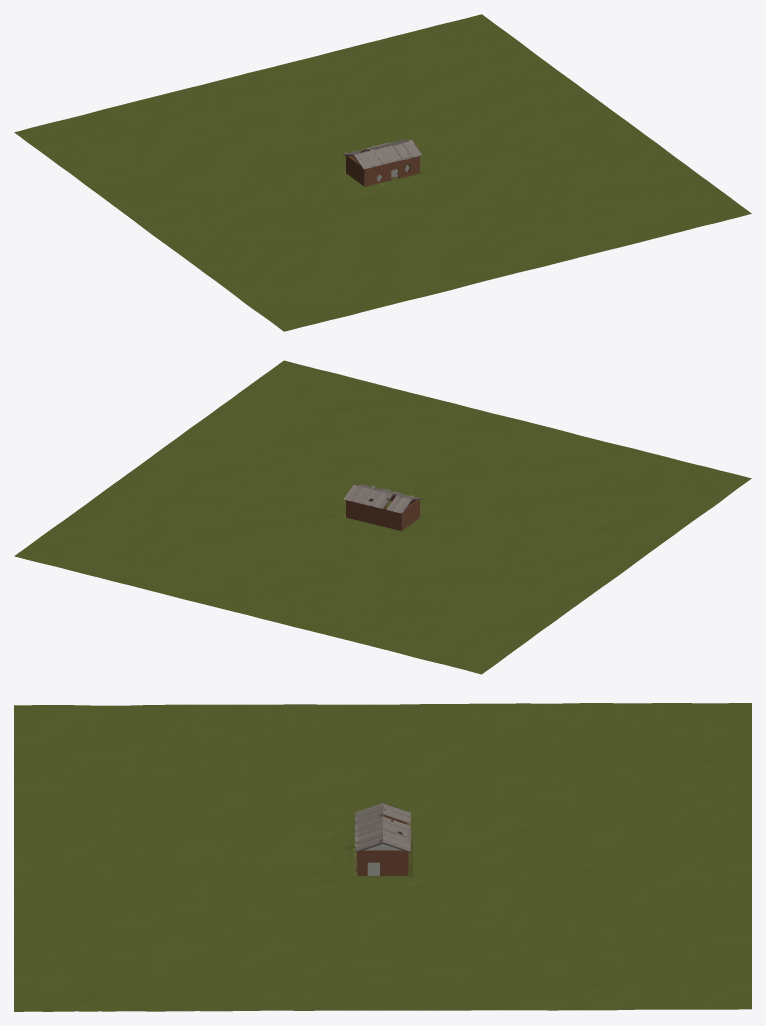
File: decal-plain.glb
3 renders of one model, top to bottom at view 1: azimuth 30°, elevation 25°; view 2: azimuth 150°, elevation 25°; view 3: azimuth 270°, elevation 25°, orthographic. The views are drawn at different scales.
Parts seen in each view (by area): view 1: far_ground_east, far_ground_west, far_ground_north, far_ground_south, yard, south_wall, roof_south; view 2: far_ground_east, far_ground_west, far_ground_north, far_ground_south, yard, north_wall, roof_north; view 3: far_ground_east, far_ground_west, far_ground_north, far_ground_south, yard, roof_north, roof_south, east_wall_002.
Boxes of the visible parts, left/top/right/bottom form: far_ground_east: left=303, top=14, right=751, bottom=259; far_ground_west: left=14, top=87, right=462, bottom=331; far_ground_north: left=194, top=59, right=414, bottom=169; far_ground_south: left=360, top=182, right=571, bottom=286; yard: left=298, top=140, right=476, bottom=211; south_wall: left=364, top=156, right=419, bottom=186; roof_south: left=354, top=139, right=419, bottom=168; far_ground_east: left=14, top=360, right=462, bottom=601; far_ground_west: left=303, top=433, right=751, bottom=674; far_ground_north: left=194, top=520, right=414, bottom=628; far_ground_south: left=360, top=406, right=572, bottom=507; yard: left=298, top=479, right=476, bottom=549; north_wall: left=346, top=500, right=401, bottom=530; roof_north: left=344, top=485, right=411, bottom=512; far_ground_east: left=14, top=892, right=751, bottom=1011; far_ground_west: left=14, top=703, right=751, bottom=823; far_ground_north: left=438, top=820, right=751, bottom=892; far_ground_south: left=14, top=821, right=296, bottom=894; yard: left=297, top=816, right=444, bottom=898; roof_north: left=382, top=803, right=411, bottom=850; roof_south: left=354, top=803, right=382, bottom=850; east_wall_002: left=358, top=850, right=407, bottom=862.
Size of the model in its own units: 120 by 7.32 by 120.
